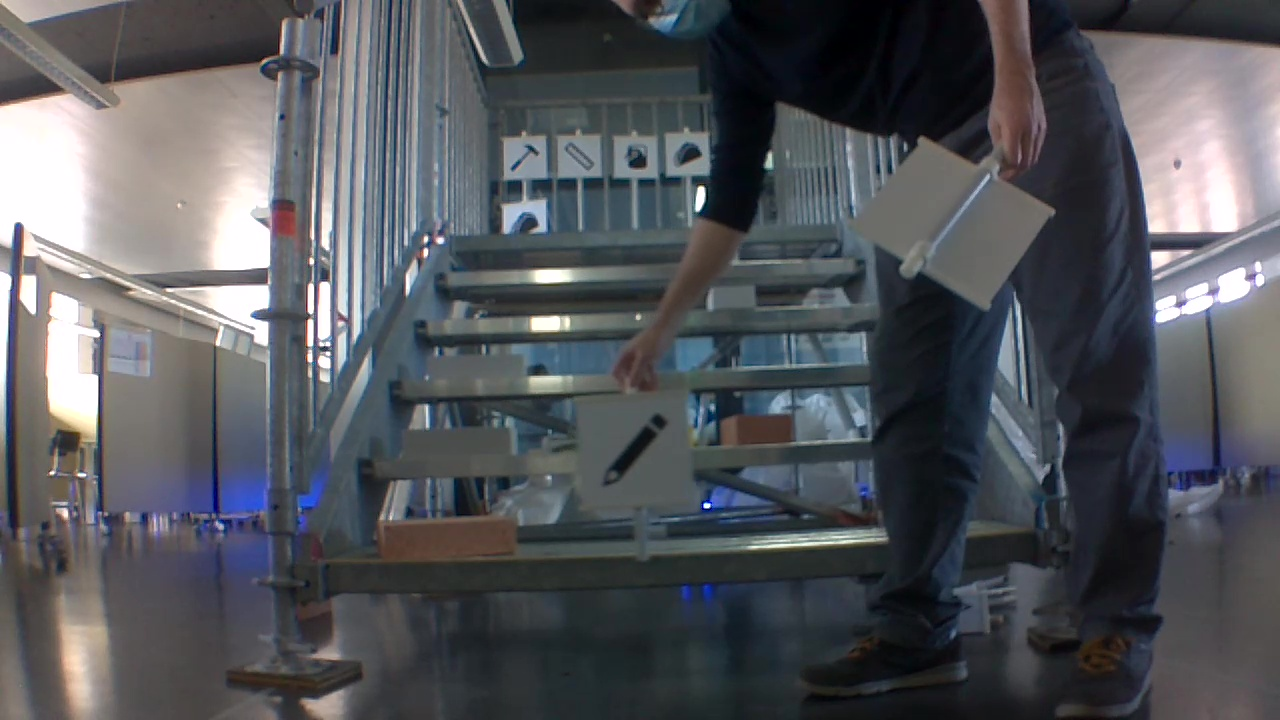brick: (373, 512, 518, 564), (396, 422, 521, 464), (717, 411, 798, 450), (427, 352, 526, 382), (707, 284, 757, 312)
bucket: (622, 144, 650, 172)
edge: (326, 540, 882, 603)
hammer: (506, 142, 542, 175)
pencil: (600, 409, 671, 490)
ruler: (565, 141, 595, 172)
taco: (672, 141, 705, 167), (512, 213, 541, 233)
